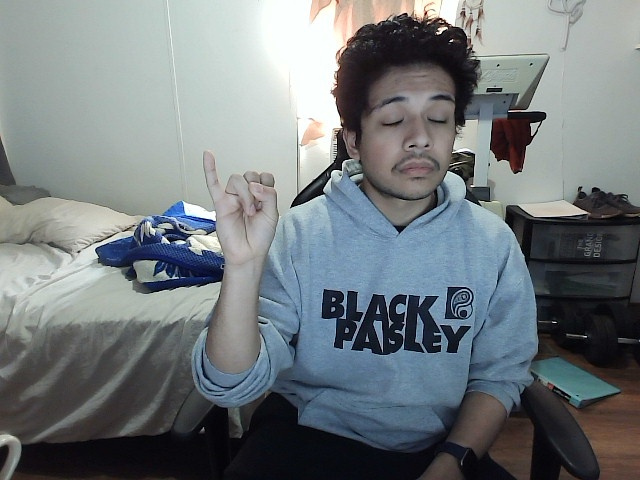I: (189, 142, 289, 268)
